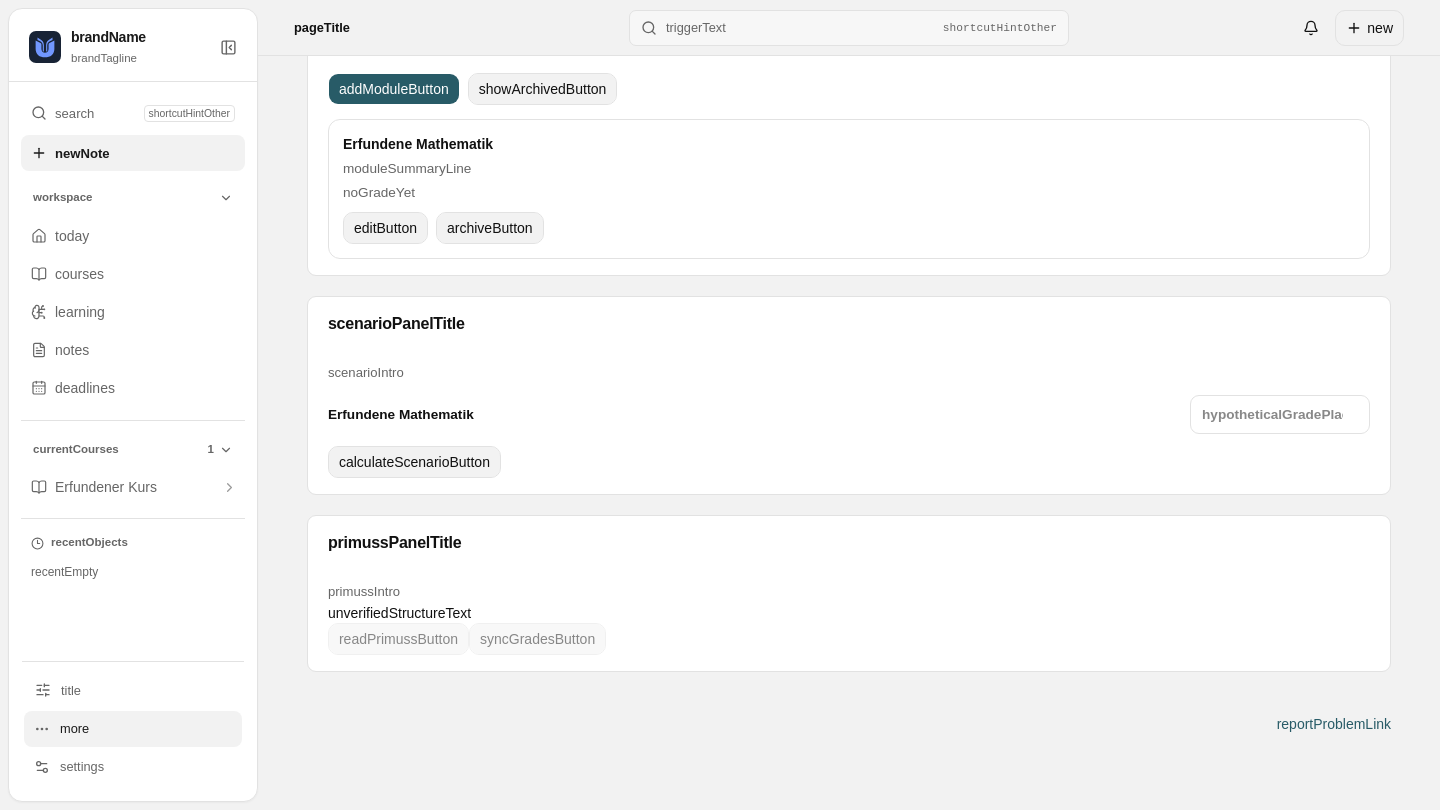
Scenario: ignores an older forecast response after a newer calculation completes
(page scrolled)
In the number field labelled "Erfundene Mathematik": (1280, 414) [1190,395,1370,434], type "3"
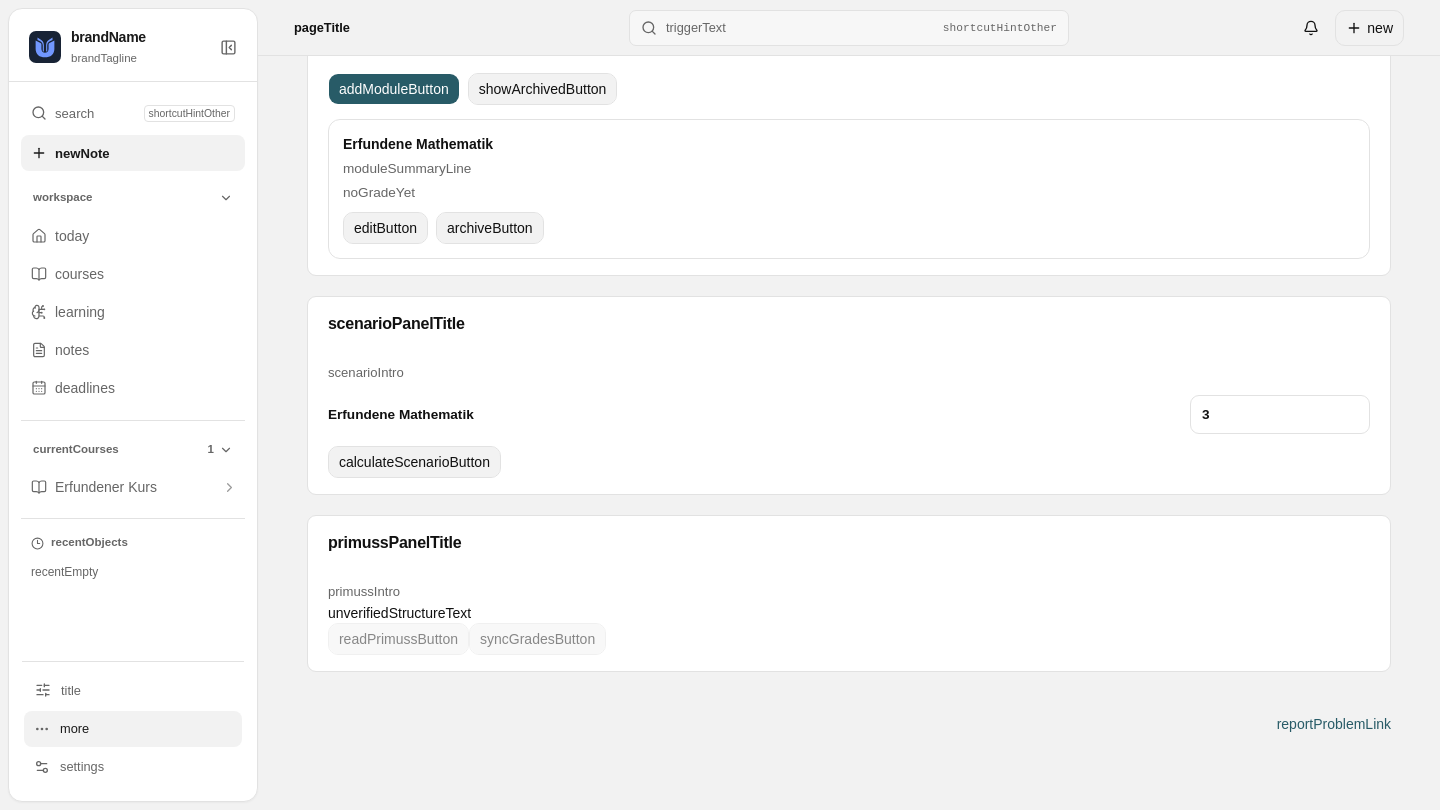
Click the button "calculateScenarioButton": (414, 462) [328,446,501,478]
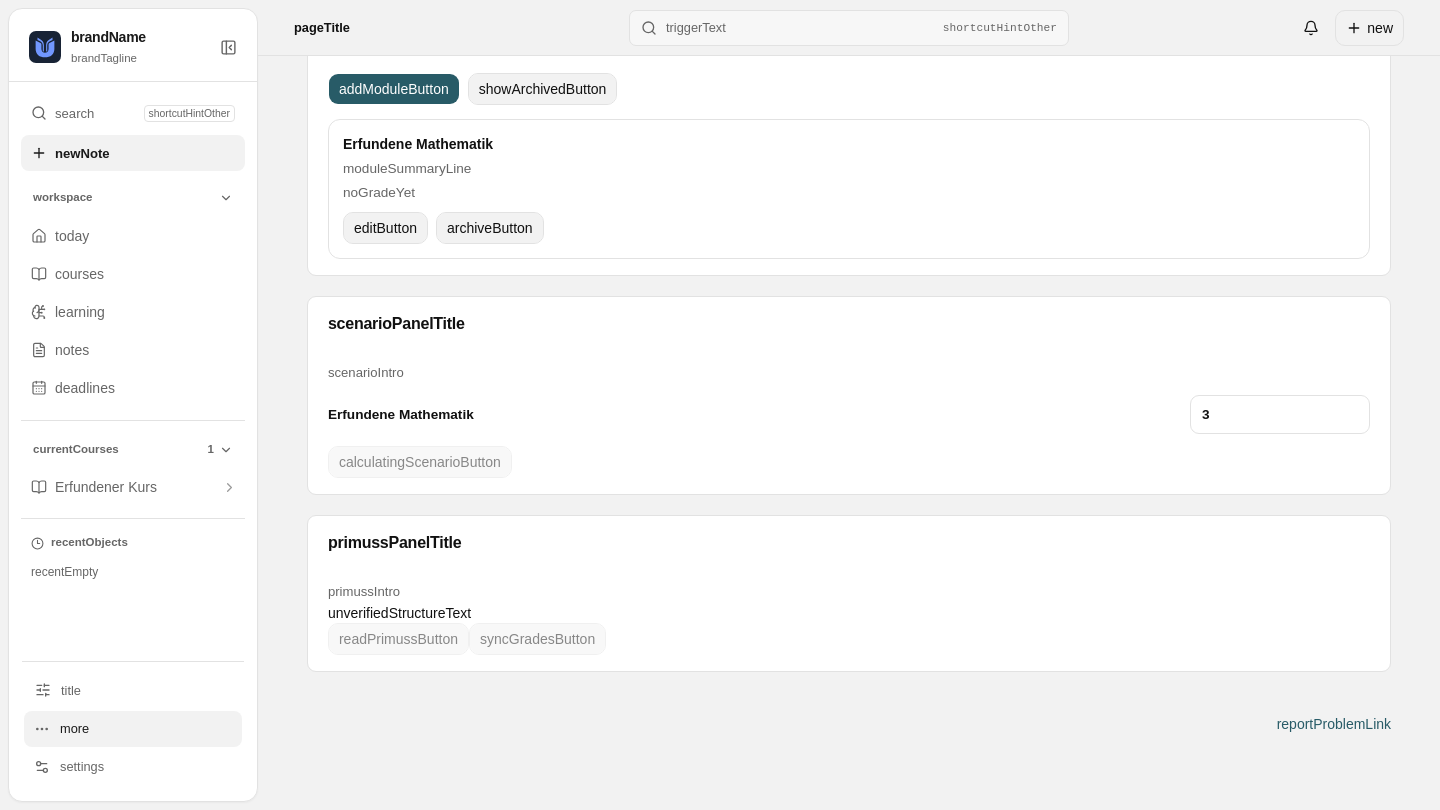
Replace the text in the number field labelled "Erfundene Mathematik" with "2": (1280, 414) [1190,395,1370,434]
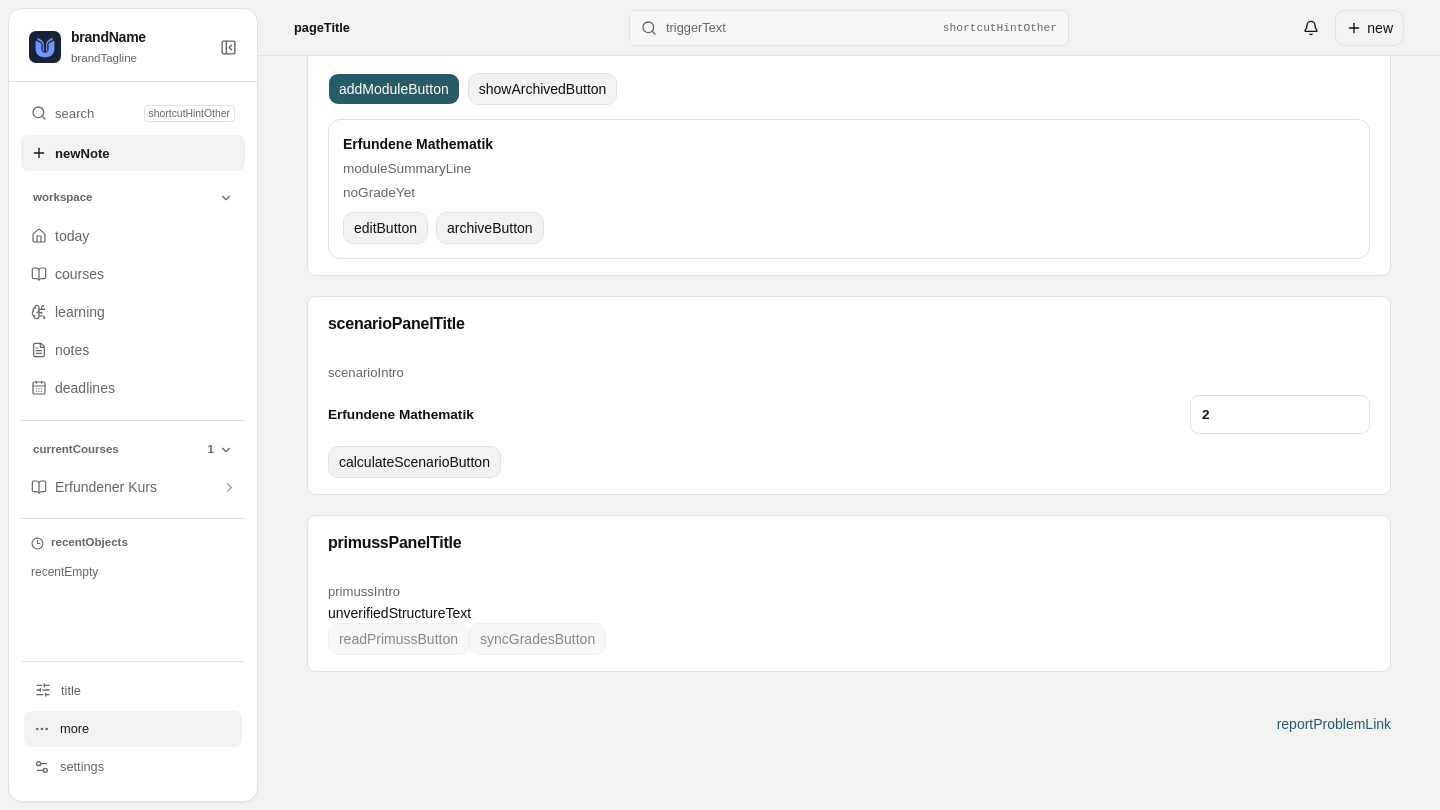
Click the button "calculateScenarioButton": (414, 462) [328,446,501,478]
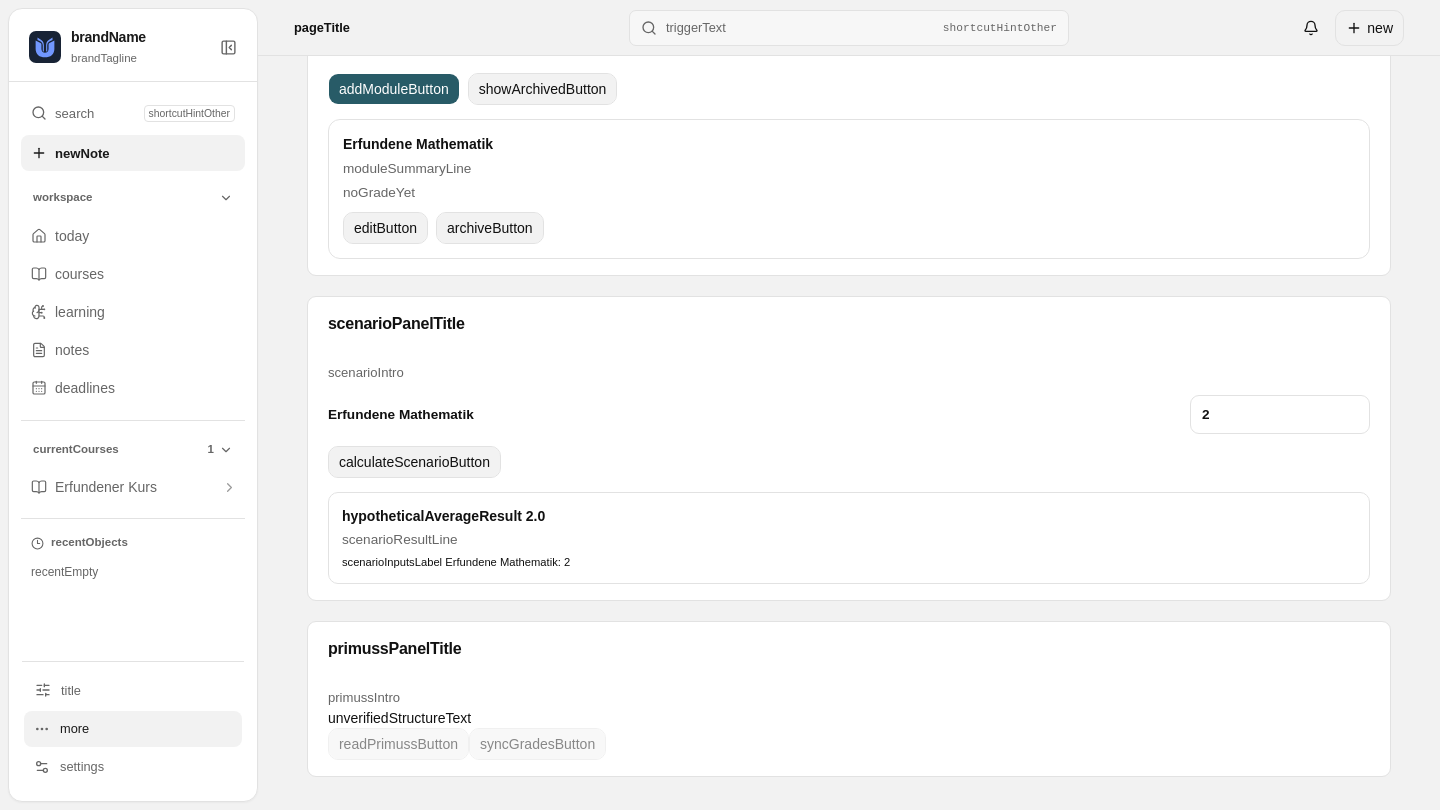
expect the text "scenarioInputsLabel Erfundene Mathematik: 2" is shown: met, box [342,556,570,568]
expect the text "hypotheticalAverageResult 2.0" is shown: met, box [342,508,545,524]
